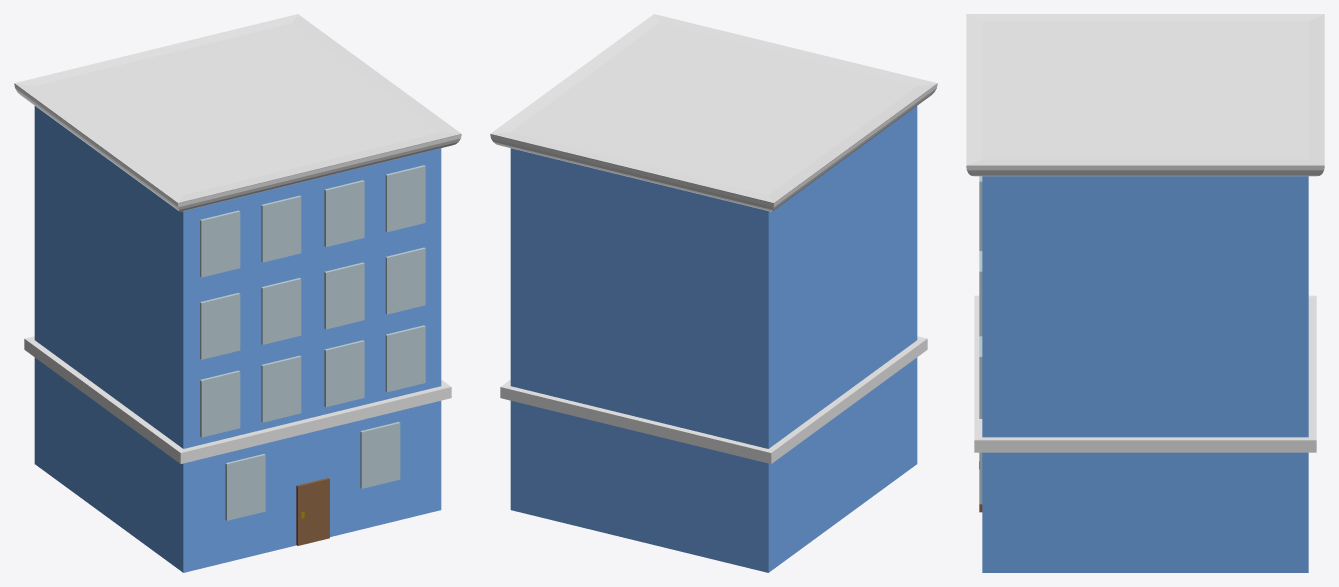
File: building2.fbx
3 views of the same model, side by side, from view 1: azimuth 30°, elevation 25°; view 2: azimuth 150°, elevation 25°; view 3: azimuth 270°, elevation 25° (orthographic). The views are drawn at different scales.
Visible parts, largest first — view 1: Cube; view 2: Cube; view 3: Cube.
Part boxes in pixels (x1=…): Cube: x1=14, y1=14, x2=461, y2=572; Cube: x1=490, y1=14, x2=937, y2=572; Cube: x1=966, y1=14, x2=1324, y2=572.
Bounding box in the file's own units: 1100 × 1402 × 1100.
